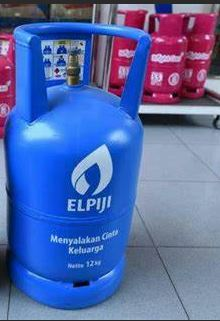blue_gas: (5, 21, 152, 309)
bright_gas: (107, 8, 147, 96), (148, 13, 187, 103), (183, 12, 212, 99)
